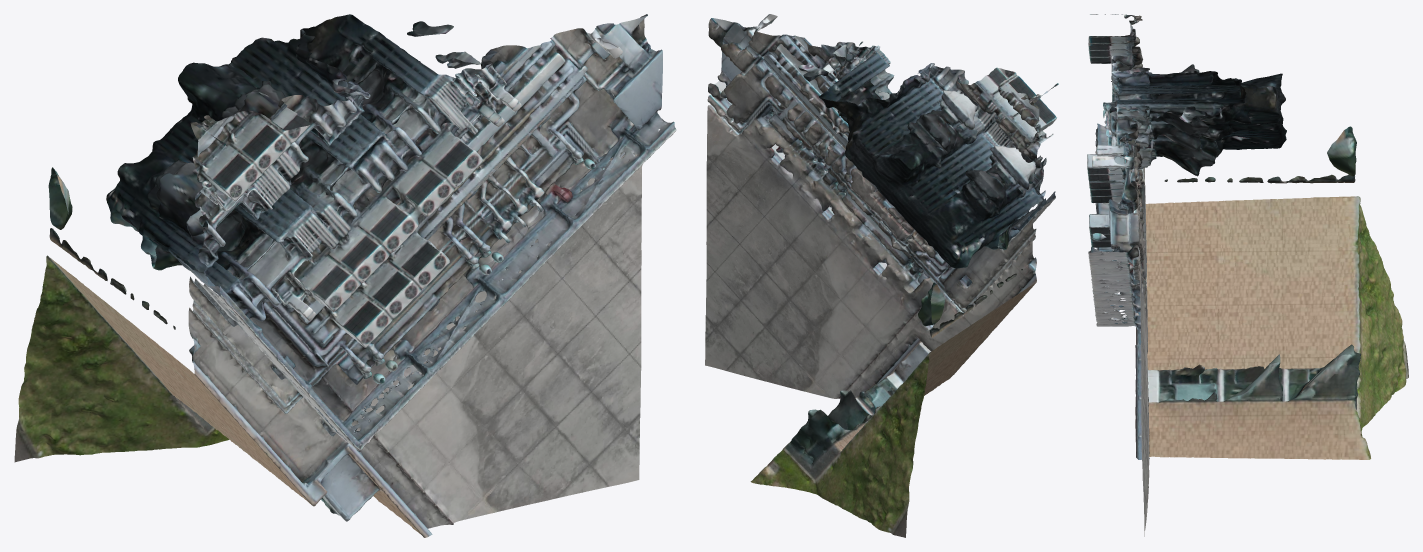
File: Tile_+007_+007.fbx
3 renders of one model, left to right at view 1: azimuth 30°, elevation 25°; view 2: azimuth 150°, elevation 25°; view 3: azimuth 270°, elevation 25°, orthographic. The views are drawn at different scales.
Parts seen in each view (by area): view 1: DefaultName; view 2: DefaultName; view 3: DefaultName.
Boxes of the visible parts, left/top/right/bottom form: DefaultName: left=14, top=14, right=676, bottom=537; DefaultName: left=705, top=14, right=1058, bottom=537; DefaultName: left=1087, top=14, right=1408, bottom=536.
Size of the model in its own units: 22.54 by 22.54 by 18.4.
